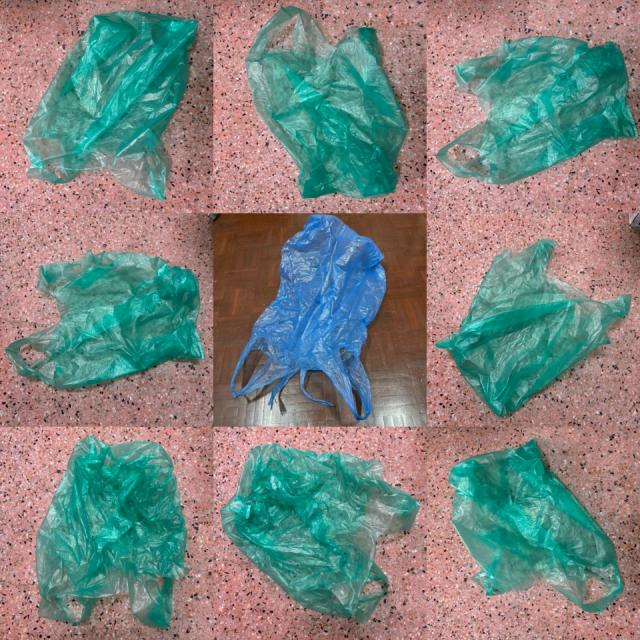Single-layer Plastic: (221, 444, 419, 623), (436, 240, 631, 416), (24, 11, 198, 199), (231, 215, 386, 421), (246, 6, 408, 198), (436, 36, 638, 184), (449, 440, 622, 612), (36, 436, 188, 628), (6, 251, 204, 388)
